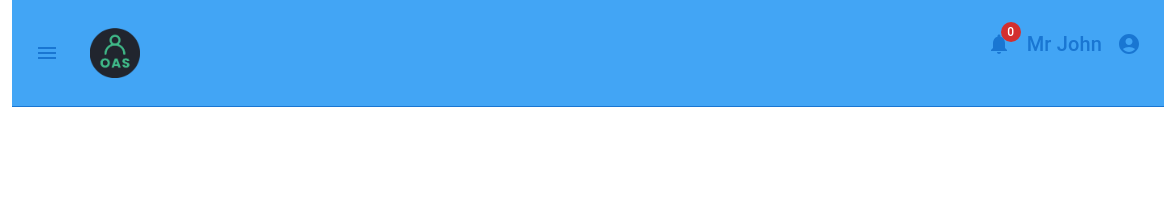
Test: Header › should have in the document
The image size is (1176, 203).
Click the button with test id "open-dropdown" at (1091, 44), box [1019,20,1164,68]
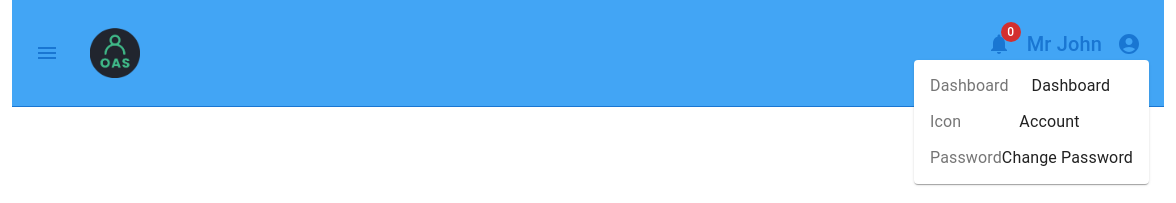
Now the element with test id "Dashboard" is shown, box [1032,76,1110,95]
Now the element with test id "Account" is shown, box [1019,112,1080,131]
Now the element with test id "Change Password" is shown, box [1002,146,1133,170]
